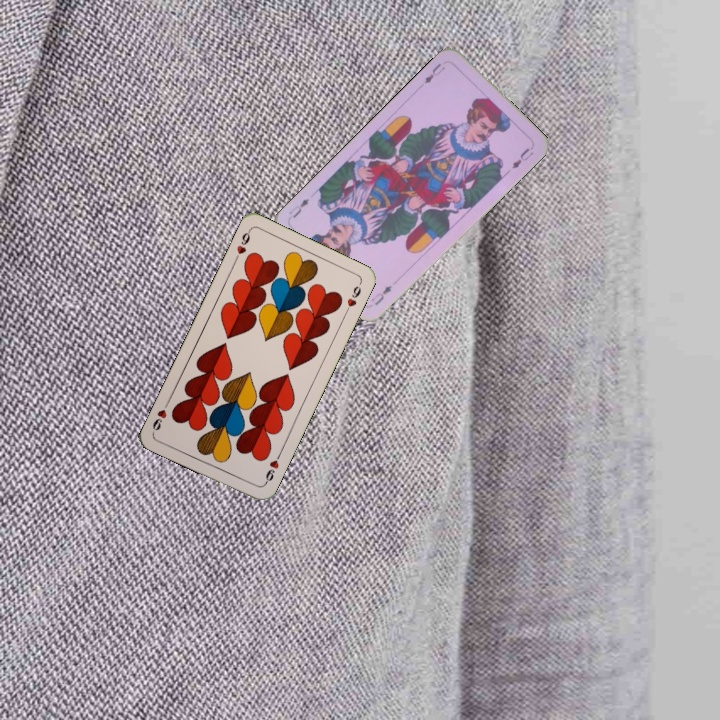EU: (420, 59, 448, 86), (367, 281, 395, 308)
H9: (260, 449, 283, 488), (230, 226, 253, 264)
